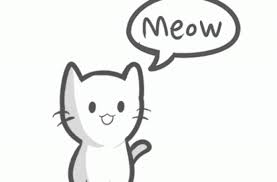cat: (38, 55, 171, 181)
